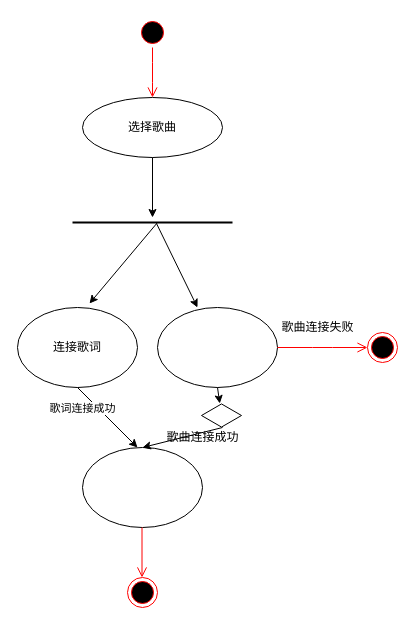
The diagram is 415 pixels wide and 625 high, and some of its shapes have lost their labels. Here are the shapes that lost their labels. From the top down, the box of each, then its label:
(156, 306, 278, 388): 连接MP3
(82, 446, 202, 528): 开始播放
